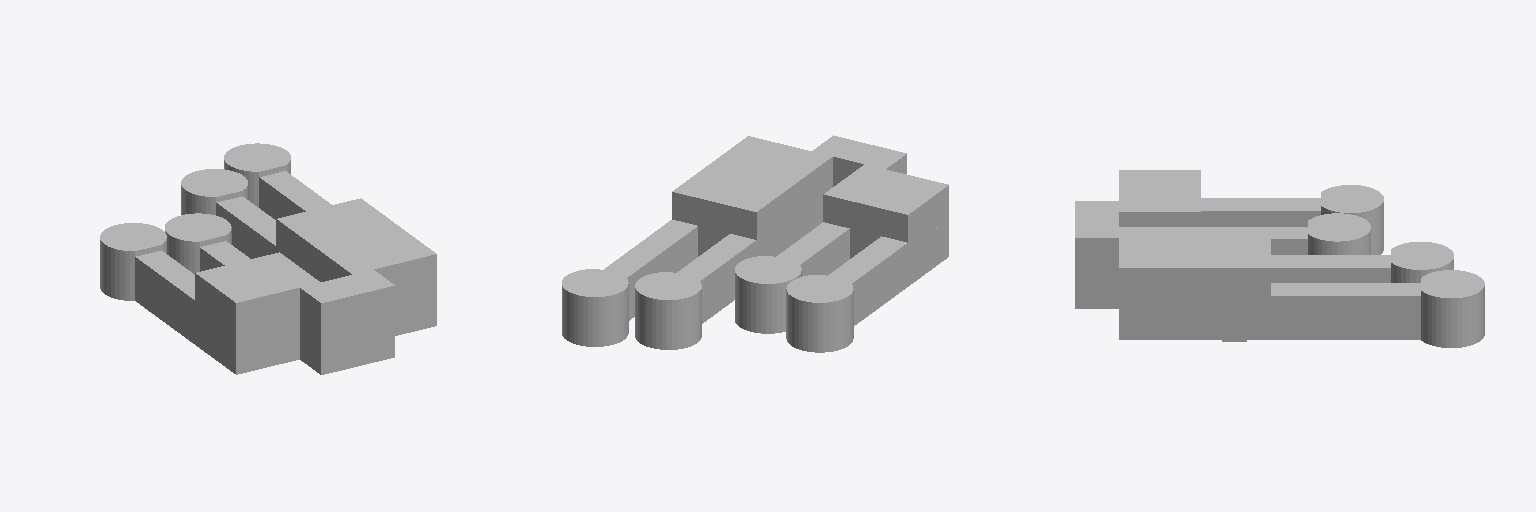
File: Tutorial simple.obj
3 views of the same model, side by side, from view 1: azimuth 30°, elevation 25°; view 2: azimuth 150°, elevation 25°; view 3: azimuth 270°, elevation 25° (orthographic).
Visible parts, largest first — view 1: Turotial__Circle.002; view 2: Turotial__Circle.002; view 3: Turotial__Circle.002.
Part boxes in pixels (bbox=[...]): Turotial__Circle.002: bbox=[100, 143, 436, 374]; Turotial__Circle.002: bbox=[562, 135, 948, 352]; Turotial__Circle.002: bbox=[1075, 170, 1484, 347].
Size of the model in its own units: 44 by 13.2 by 67.11.